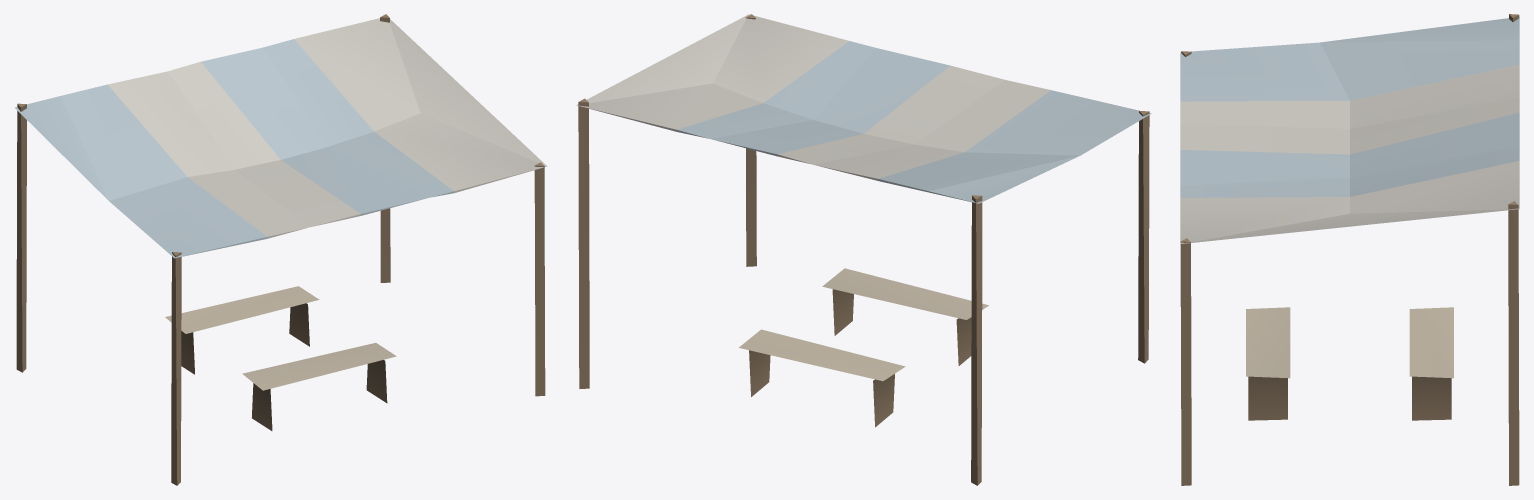
Rendered from roof_shade_low.glb.
3 renders of one model, left to right at view 1: azimuth 30°, elevation 25°; view 2: azimuth 150°, elevation 25°; view 3: azimuth 270°, elevation 25°, orthographic. The views are drawn at different scales.
Visible parts, largest first — view 1: roof.shade; view 2: roof.shade; view 3: roof.shade.
Boxes of the visible parts, x1,y1,x2,y2 form: roof.shade: (14, 14, 547, 485); roof.shade: (576, 14, 1151, 485); roof.shade: (1180, 14, 1519, 485).
Size of the model in its own units: 3.9 by 2.65 by 2.9.
